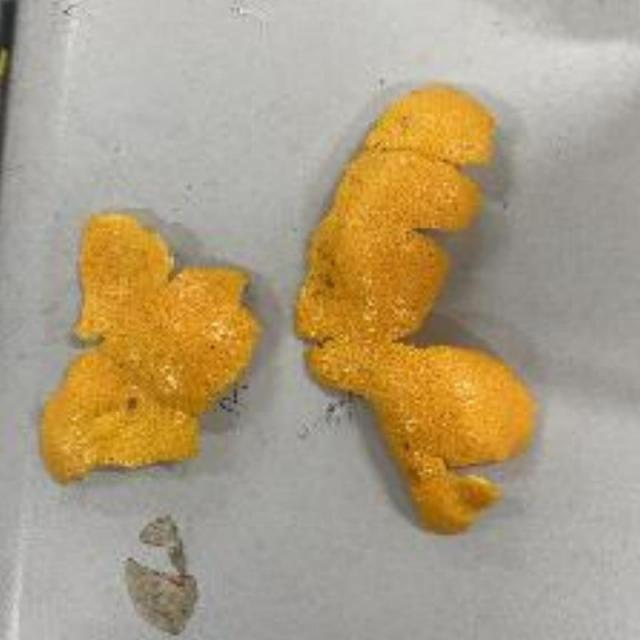orange peel: (296, 72, 550, 536), (36, 211, 250, 493)
